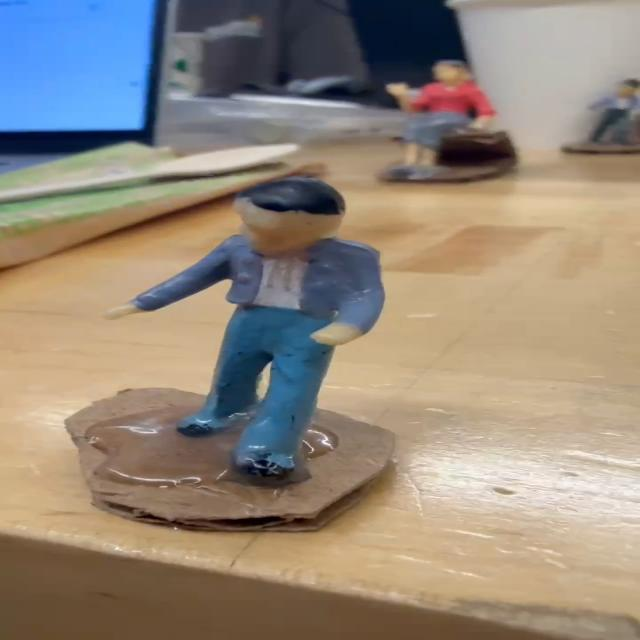Authorized: (57, 164, 452, 569)
